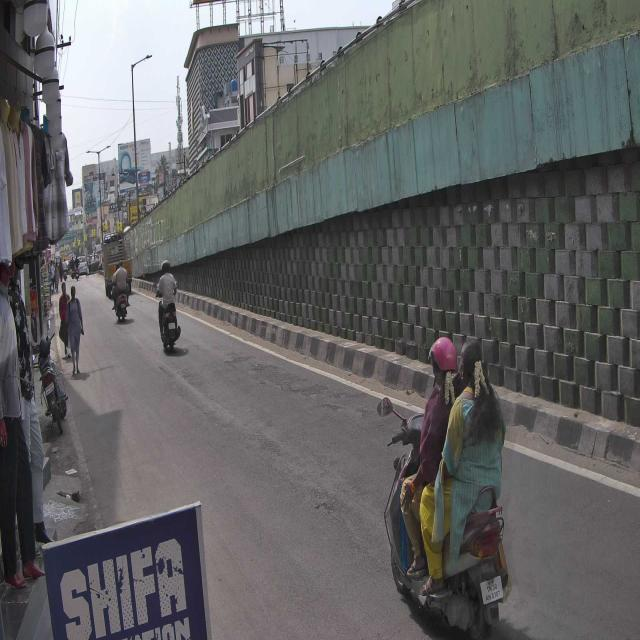double_rider: (384, 326, 509, 640)
